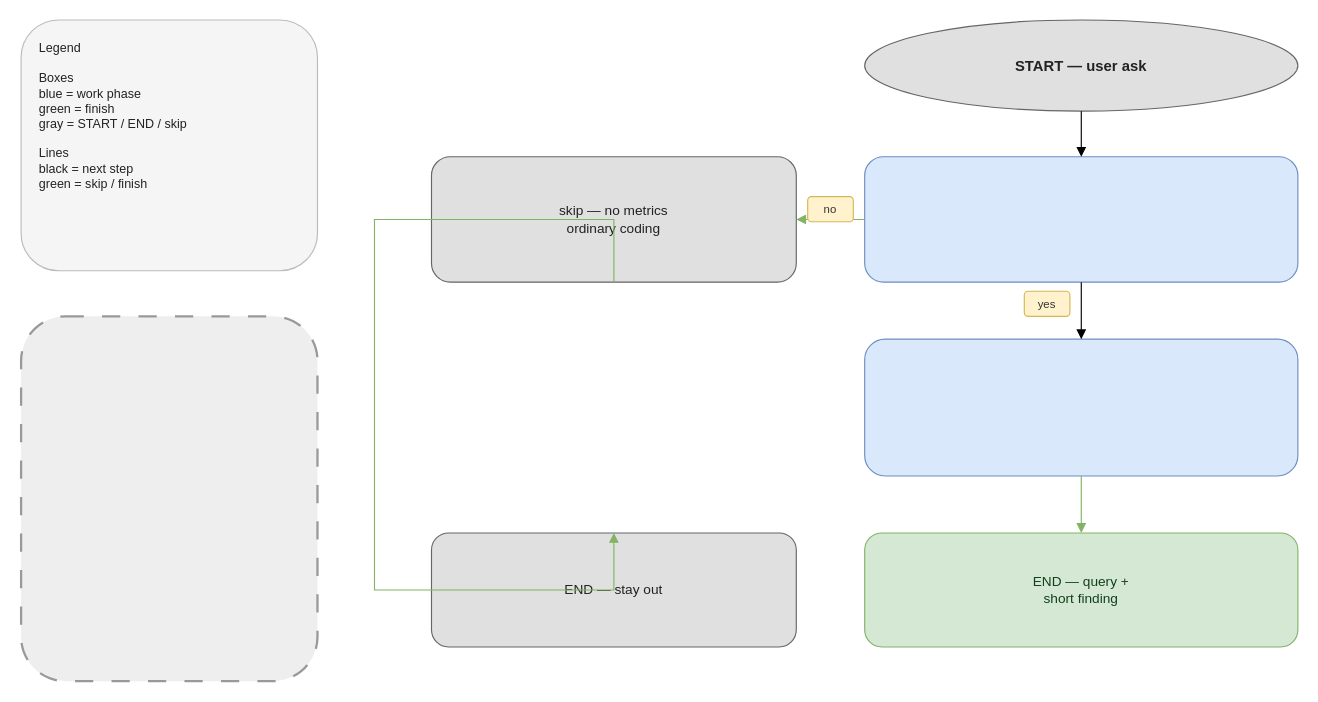
Some shapes in this 1318 by 702 pixel diagram are drawn without their labels. Each missing label, with the box of its shape:
AMBIENT — metrics Discover first labels · series · targets rate then sum na: (19, 315, 318, 682)
discover → query instant/range via MCP; bound cardinality: (864, 338, 1298, 476)
gate · Prometheus? PromQL / metrics / targets ask: (864, 156, 1298, 282)
